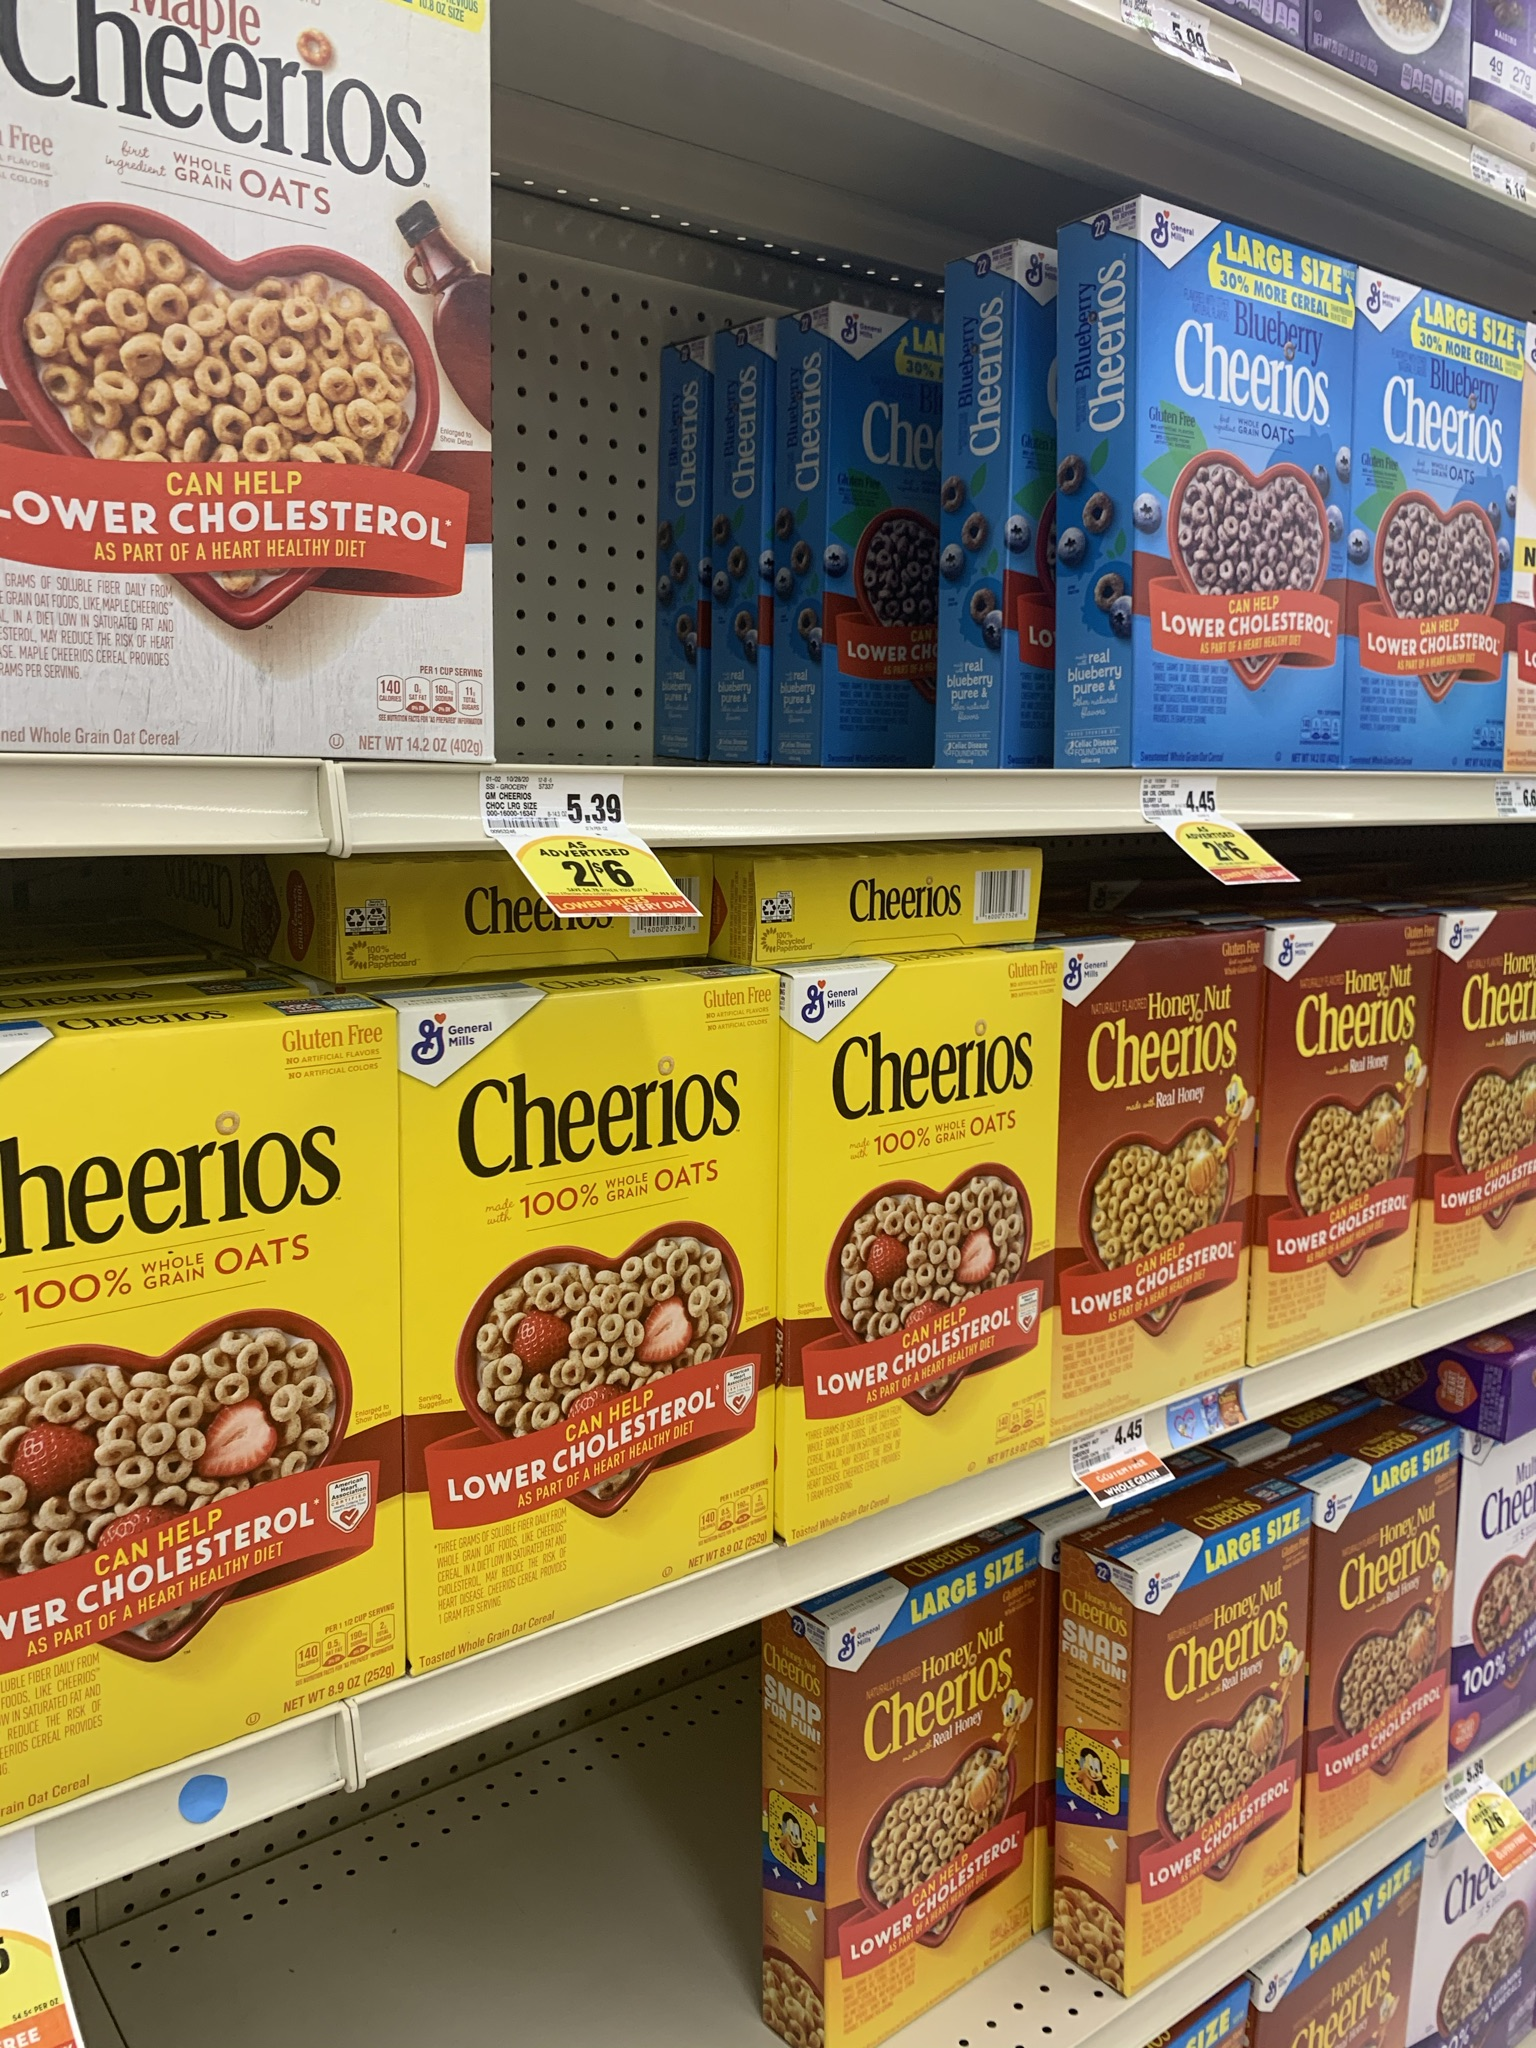box: (2, 10, 487, 742), (2, 1050, 389, 1680), (424, 1008, 776, 1561), (776, 966, 1044, 1450), (1129, 261, 1346, 764), (1063, 959, 1242, 1366), (829, 1637, 1041, 1932), (1371, 293, 1501, 772), (1128, 1571, 1292, 1892), (1278, 951, 1413, 1305), (1313, 1498, 1447, 1785)
